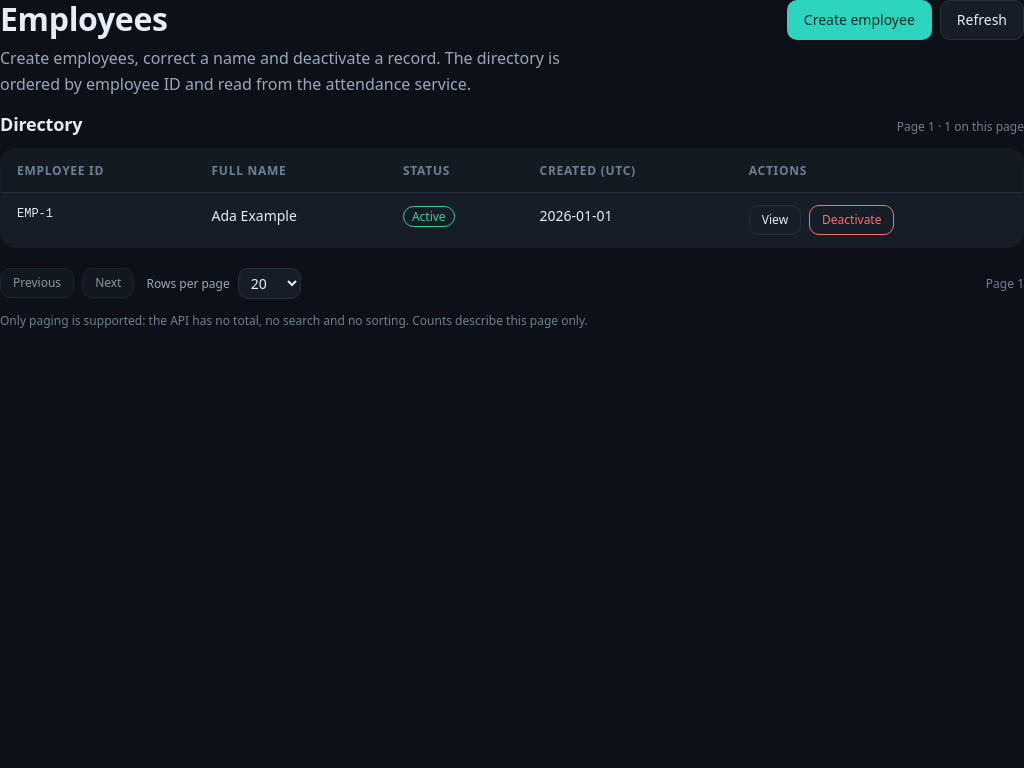
Scenario: employee deactivation › deactivates once, reports success and refreshes the directory
This screenshot has width=1024, height=768.
expect the text "EMP-1" is shown: met, box [17,207,53,221]
Click the button "Deactivate".
click(852, 220)  # box [809,205,894,235]
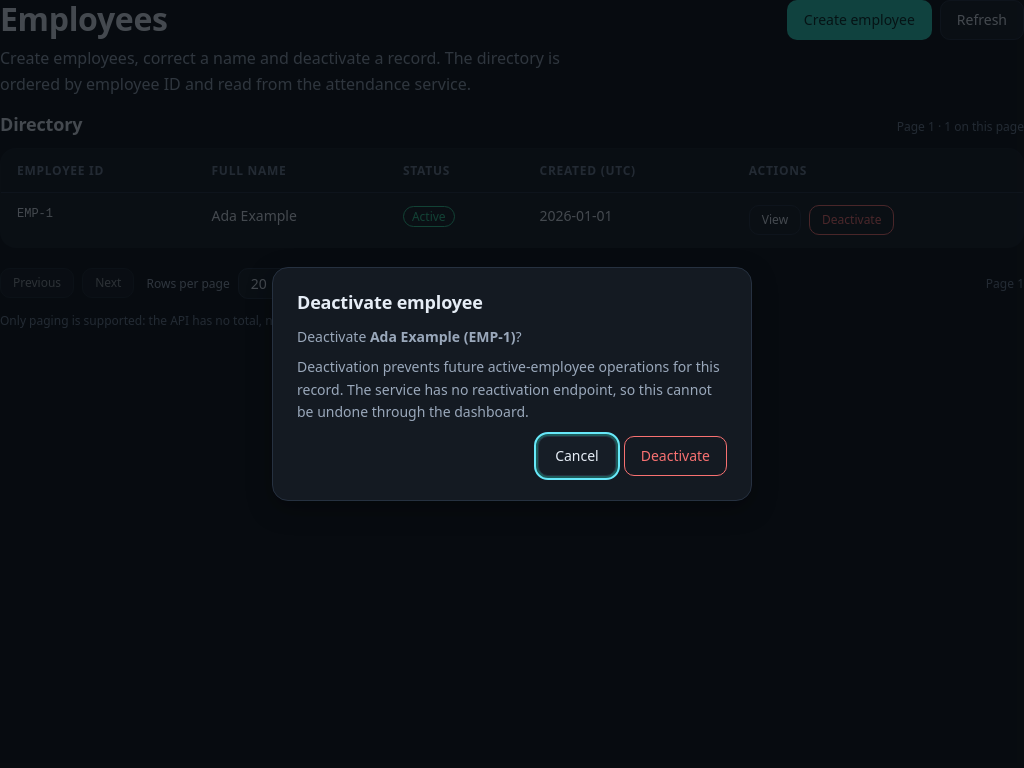
Click the button "Deactivate".
click(675, 456)  # box [624,436,727,476]
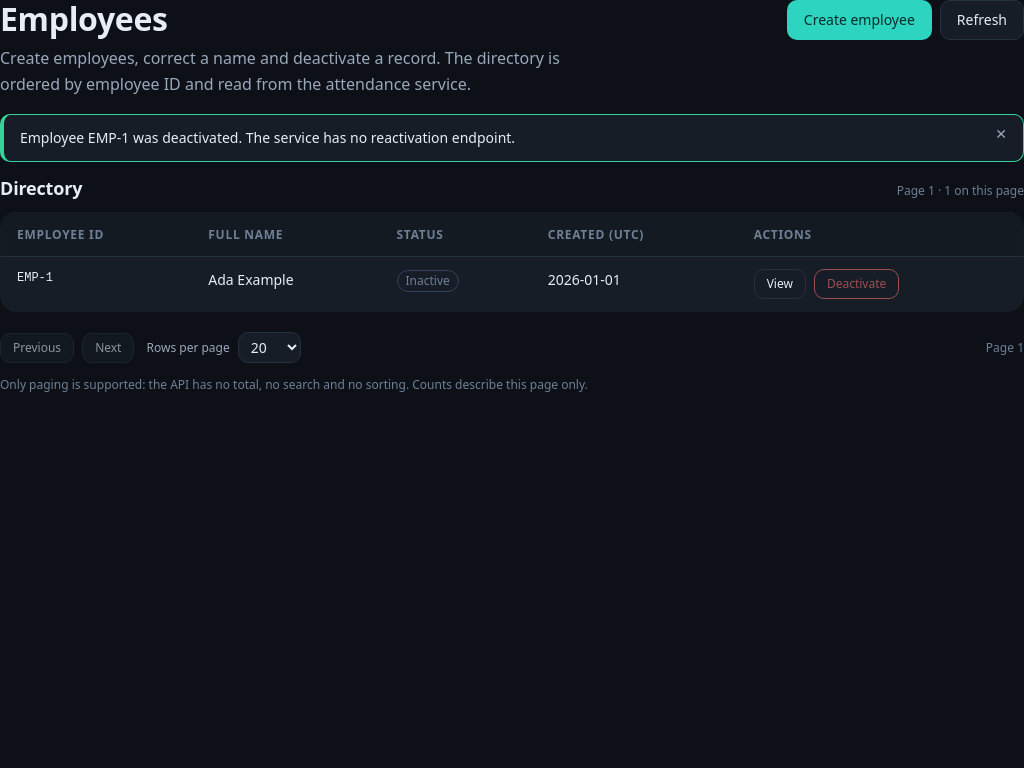
expect the text "was deactivated" is shown: met, box [20,128,515,147]
expect the dialog is gone: met
expect the text "Inactive" is shown: met, box [396,270,459,292]
